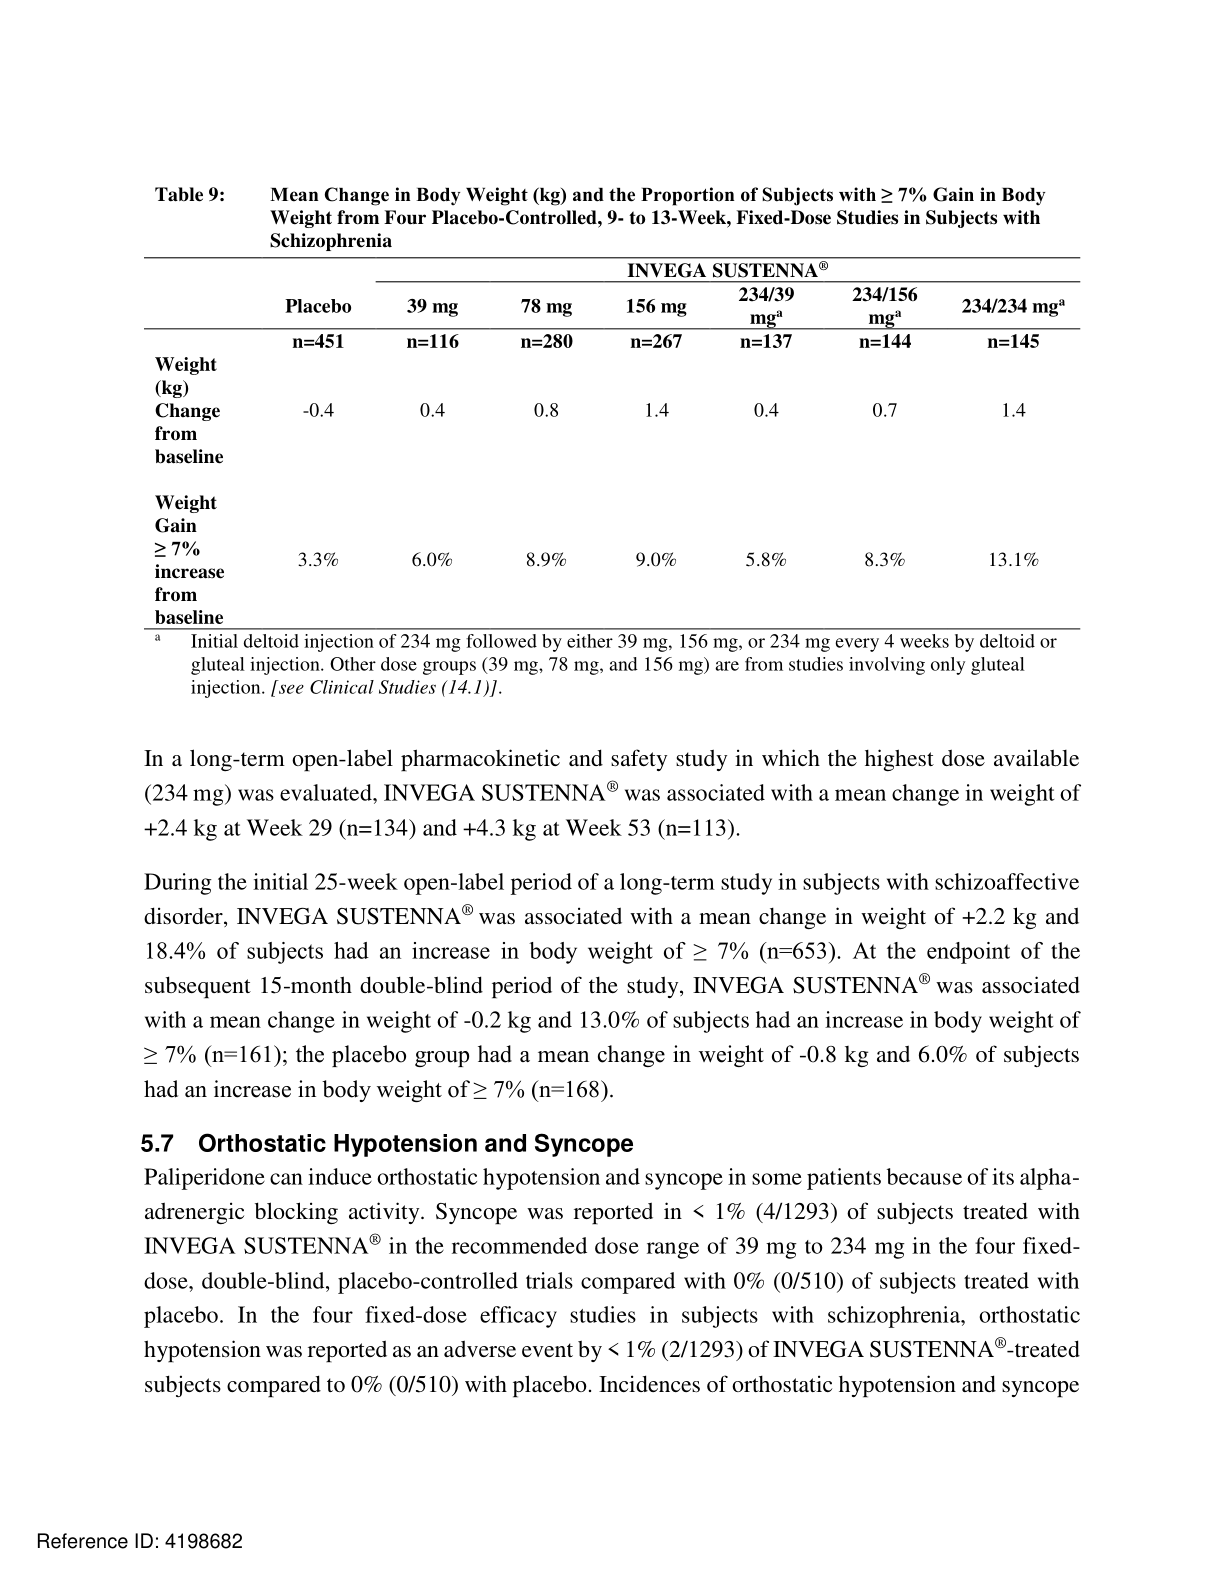partial_lined_merged_cells: (141, 255, 1083, 633)
